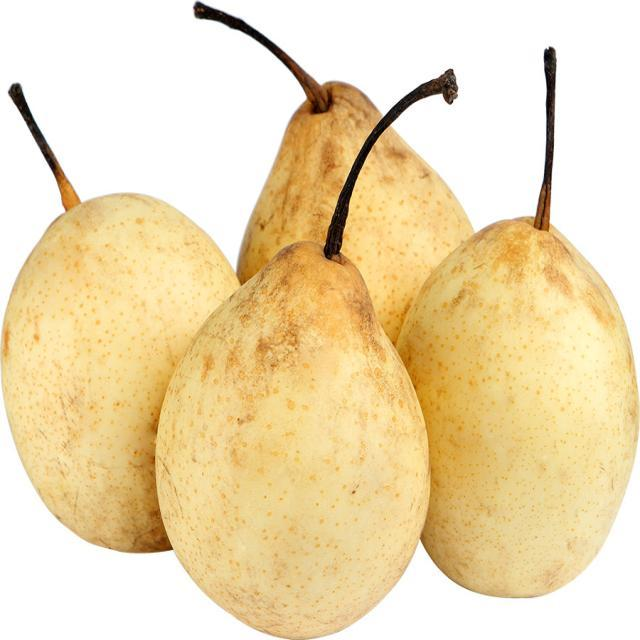Pear Overripe: (157, 243, 429, 639), (397, 217, 639, 595), (2, 193, 238, 552)
